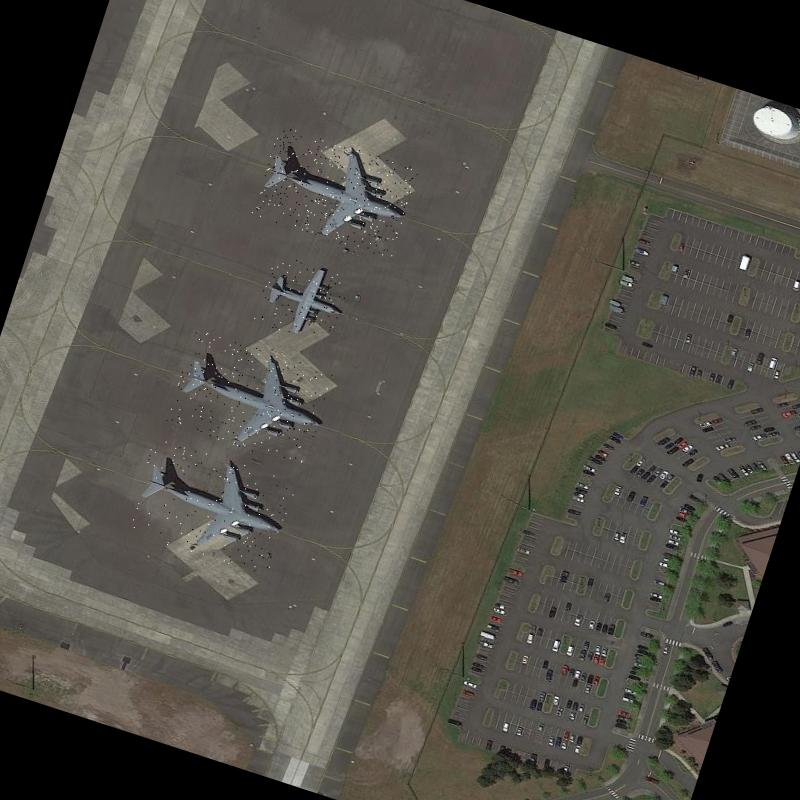A2: (252, 252, 352, 347)
A3: (123, 436, 298, 578), (165, 328, 336, 468), (251, 125, 420, 260)
